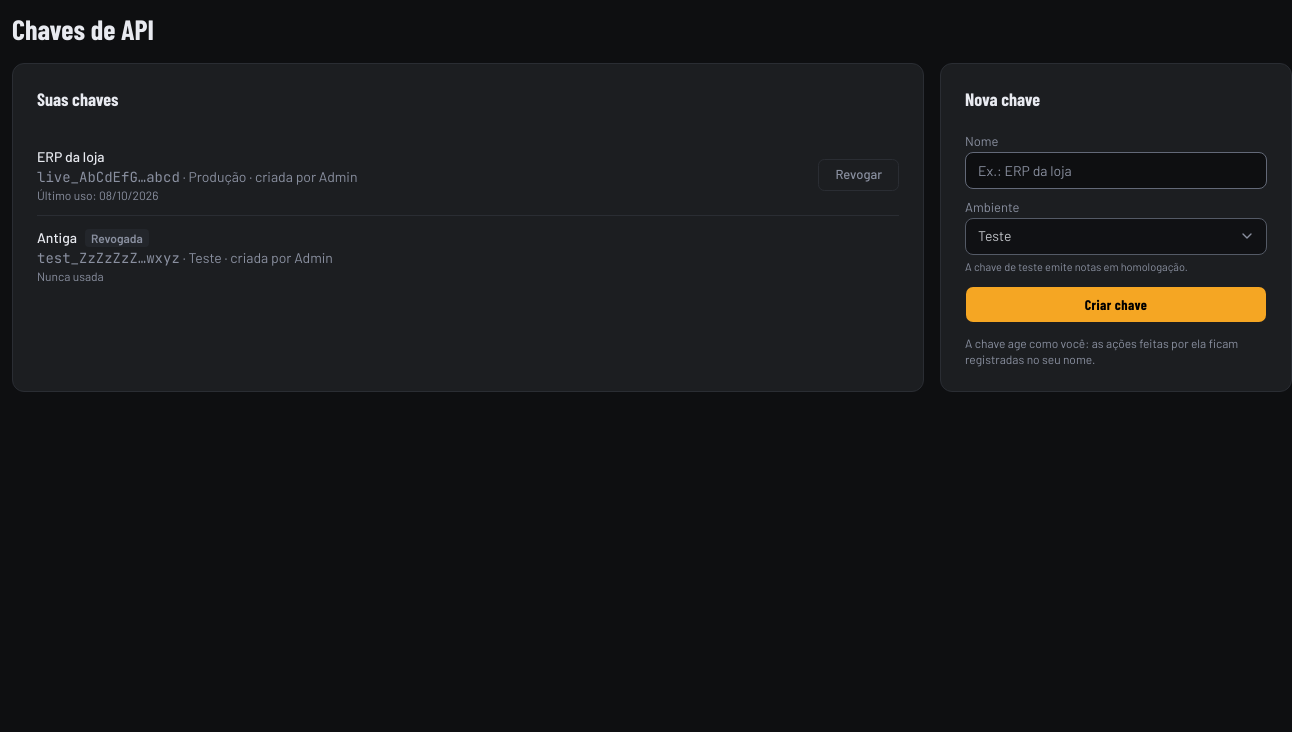
Test case: chaves de API › a chave inteira não fica em localStorage nem no cache
Type "ERP" into the field labelled "Nome" at (1116, 170), box [965,152,1267,188]
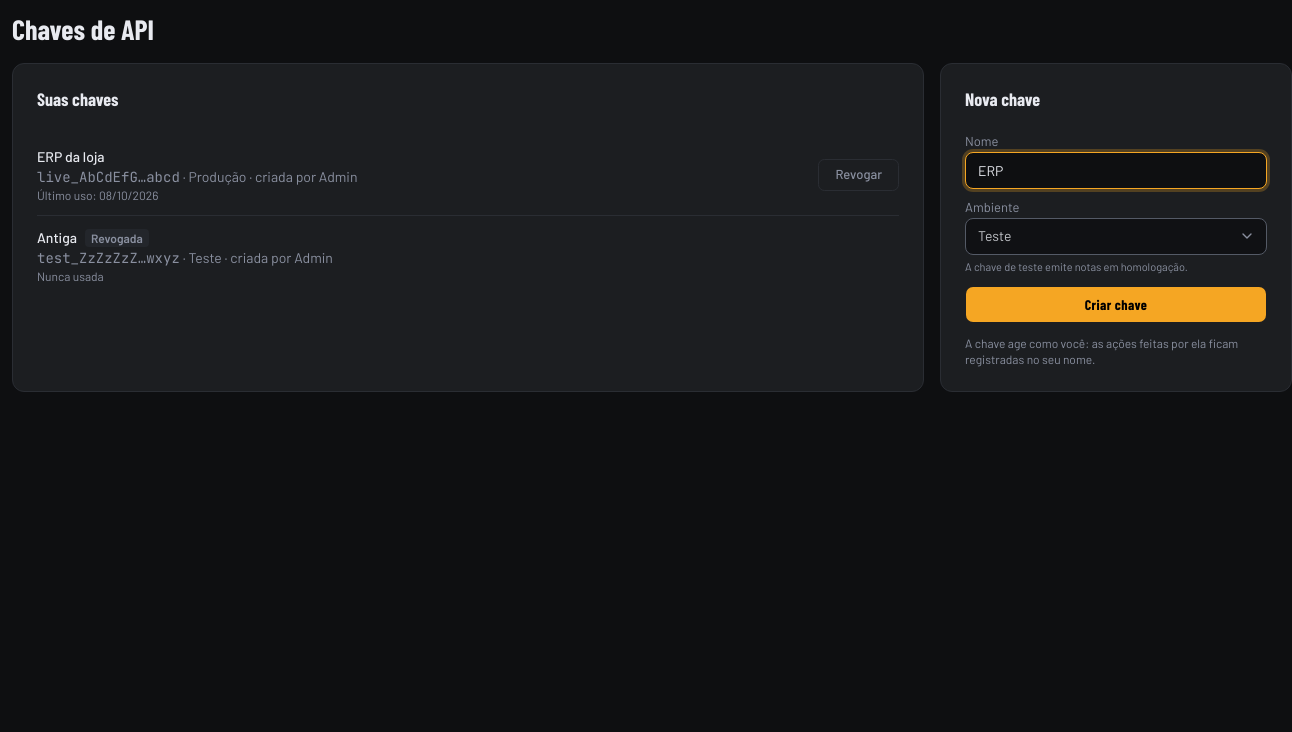
Click the button "Criar chave" at (1116, 305), box [965,286,1267,323]
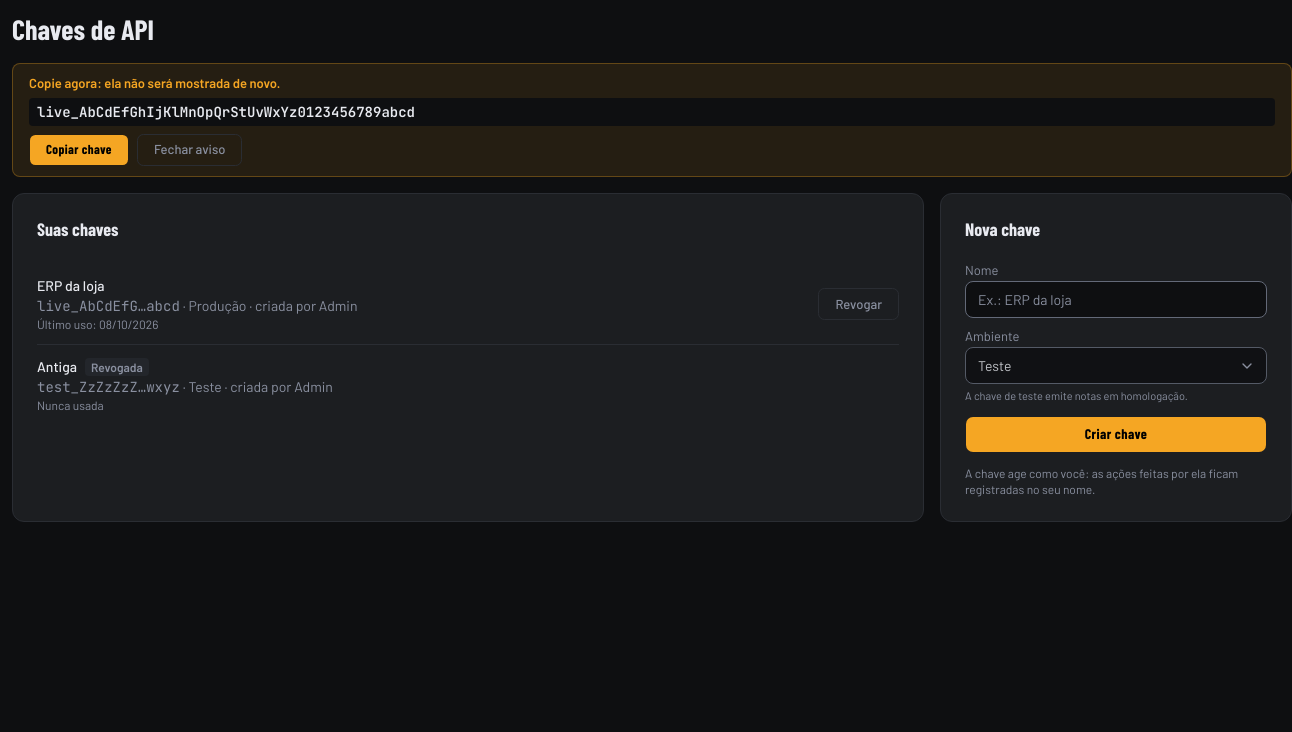
Expected: the text "live_AbCdEfGhIjKlMnOpQrStUvWxYz0123456789abcd" is shown, [29,98,1275,126]
